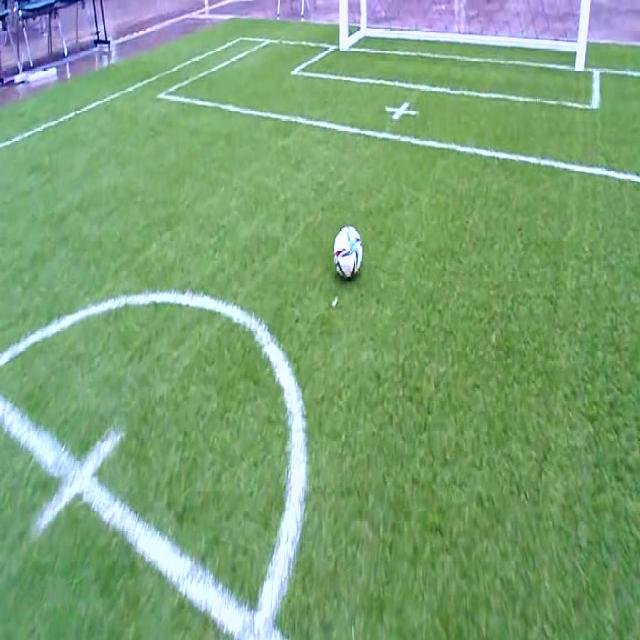ball: (333, 225, 362, 279)
